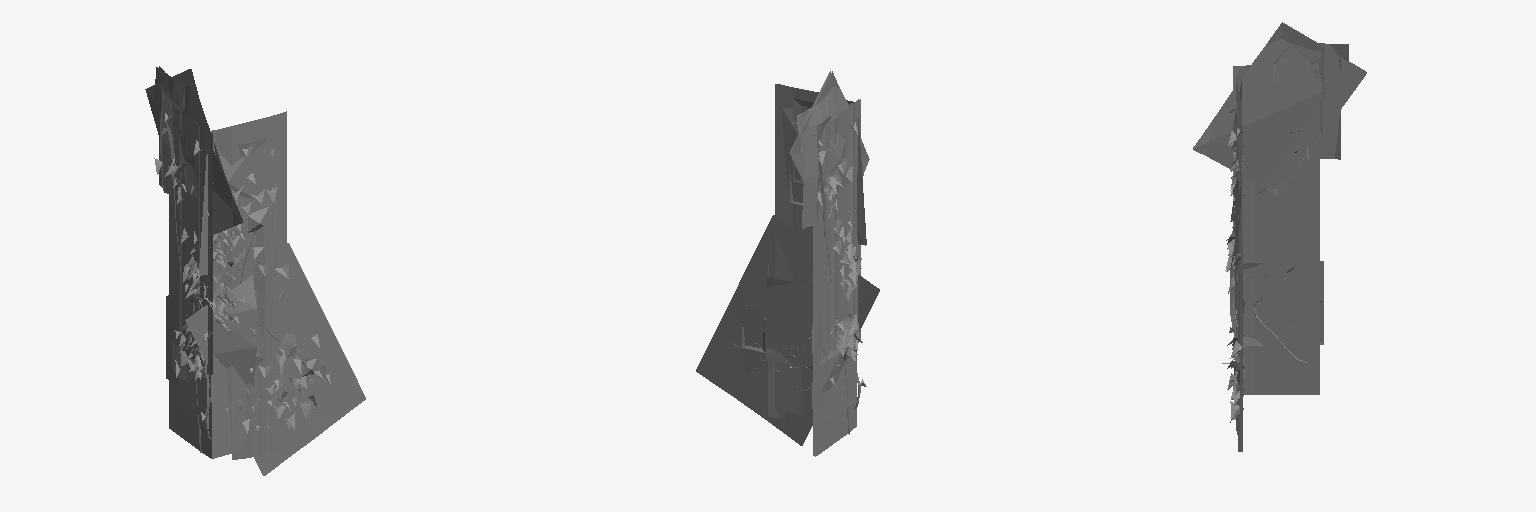
Rendered from Corner_Ivy_Dying.obj.
3 views of the same model, side by side, from view 1: azimuth 30°, elevation 25°; view 2: azimuth 150°, elevation 25°; view 3: azimuth 270°, elevation 25° (orthographic).
Parts seen in each view (by area): view 1: Corner_Ivy_Dying_01_LOD0, Corner_Ivy_Dying_01_LOD2, Corner_Ivy_Dying_01_LOD1; view 2: Corner_Ivy_Dying_01_LOD0, Corner_Ivy_Dying_01_LOD2, Corner_Ivy_Dying_01_LOD1; view 3: Corner_Ivy_Dying_01_LOD0, Corner_Ivy_Dying_01_LOD2, Corner_Ivy_Dying_01_LOD1.
Boxes of the visible parts, x1,y1,x2,y2 form: Corner_Ivy_Dying_01_LOD0: [154, 66, 330, 474]; Corner_Ivy_Dying_01_LOD2: [145, 67, 365, 475]; Corner_Ivy_Dying_01_LOD1: [155, 84, 285, 455]; Corner_Ivy_Dying_01_LOD0: [696, 71, 879, 455]; Corner_Ivy_Dying_01_LOD2: [733, 71, 879, 456]; Corner_Ivy_Dying_01_LOD1: [793, 97, 831, 403]; Corner_Ivy_Dying_01_LOD0: [1193, 23, 1366, 451]; Corner_Ivy_Dying_01_LOD2: [1193, 22, 1366, 451]; Corner_Ivy_Dying_01_LOD1: [1236, 24, 1365, 432].
Size of the model in its own units: 172 by 363 by 142.